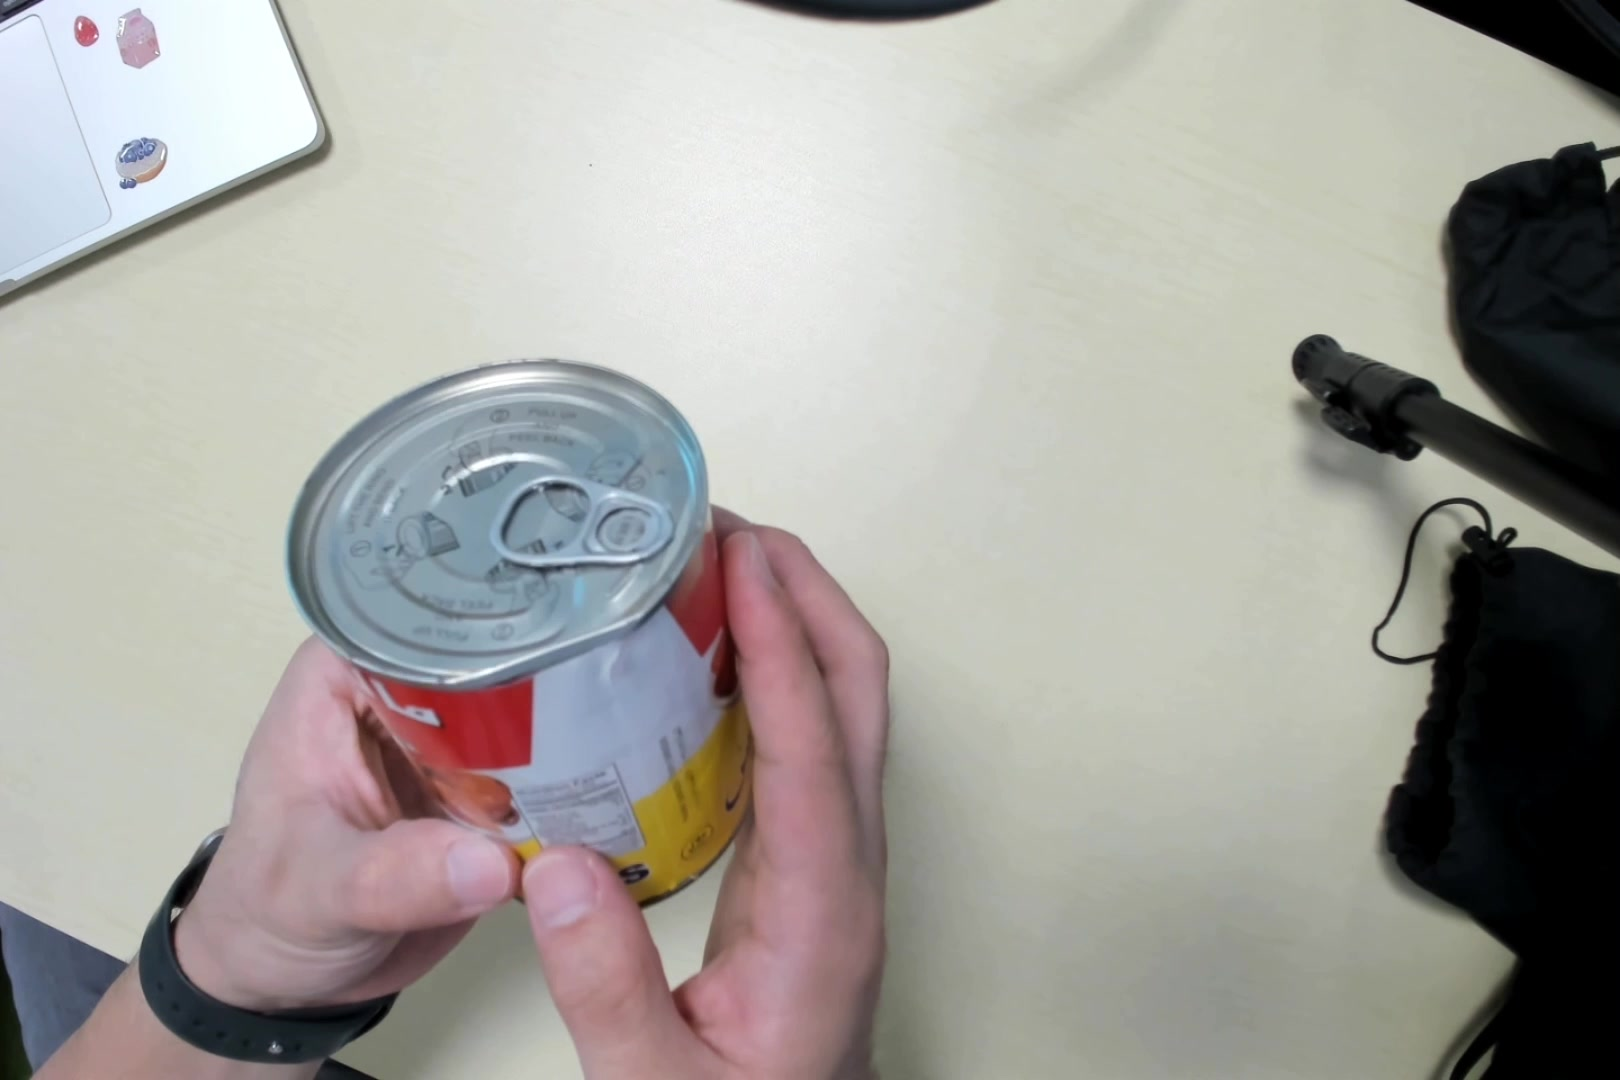OtherCannedBeansPeasPeanuts_400-499g_Halal_NonHealthy: (309, 358, 758, 918)
